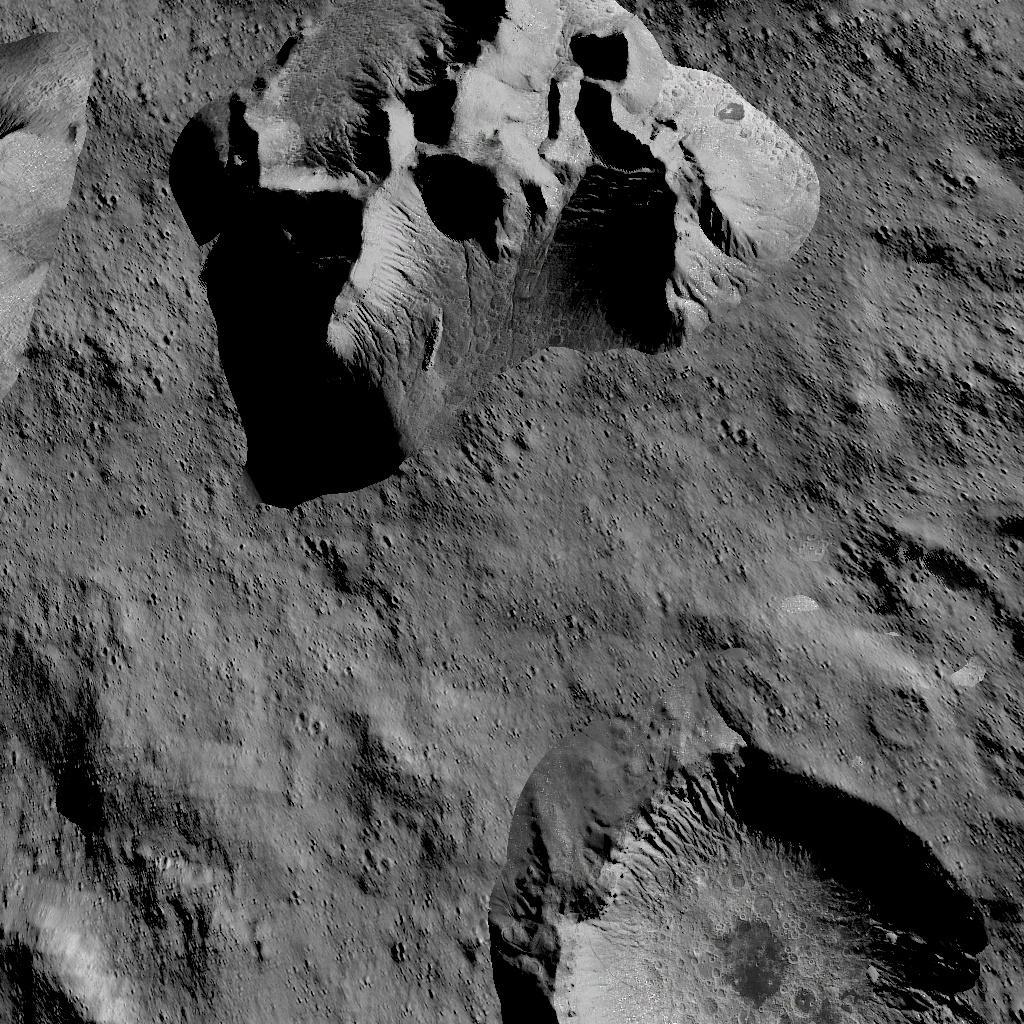Boulders: (167, 0, 826, 502), (0, 30, 103, 417)
Crater: (513, 738, 997, 1022), (0, 884, 146, 1024)
Plan surface: (220, 512, 918, 724), (200, 748, 470, 1024)
